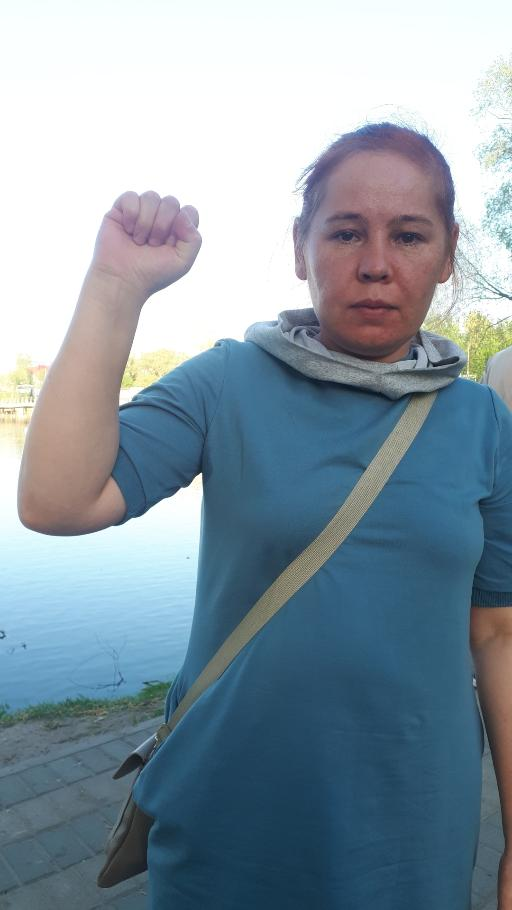fist: (87, 187, 206, 302)
